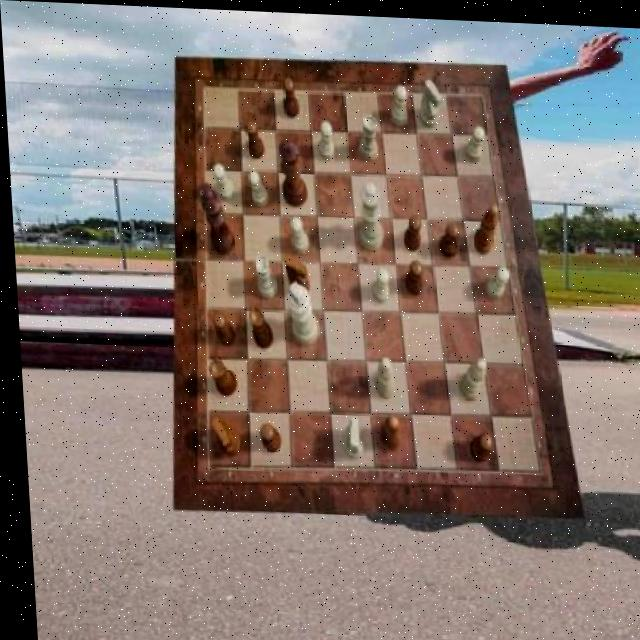bishop: (470, 197, 499, 251), (374, 411, 398, 448)
black-bishop: (199, 180, 233, 254)
black-king: (207, 416, 238, 455), (282, 256, 308, 295)
black-knight: (209, 310, 233, 345), (436, 219, 458, 256), (400, 212, 421, 249), (244, 118, 263, 157), (402, 255, 421, 292), (464, 430, 488, 459), (282, 76, 299, 116), (256, 422, 278, 450)
black-pawn: (277, 136, 306, 206)
black-queen: (206, 356, 235, 394), (245, 303, 270, 347)
black-rook: (453, 354, 484, 397), (370, 354, 392, 397)
white-bishop: (282, 280, 315, 344)
white-king: (417, 74, 443, 124), (336, 416, 360, 456)
white-knight: (482, 261, 508, 296), (462, 122, 486, 159), (212, 162, 233, 201), (246, 167, 267, 205), (389, 82, 408, 123), (316, 118, 334, 159), (367, 265, 386, 302), (288, 214, 307, 251)
white-pawn: (354, 179, 382, 248)
white-queen: (250, 253, 274, 298), (357, 111, 378, 159)
